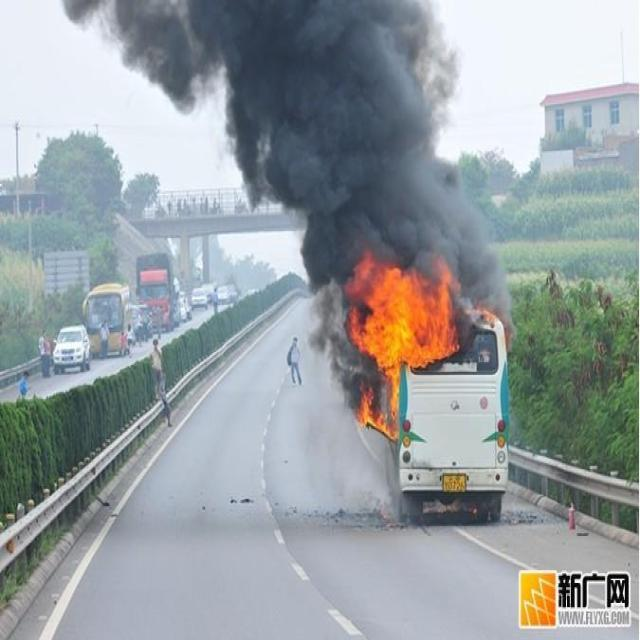Fire: (344, 249, 462, 442)
Smoke: (61, 2, 518, 410)
